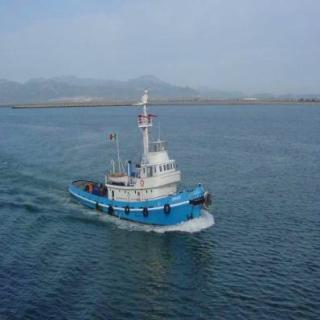Tug Boat: (72, 88, 211, 227)
